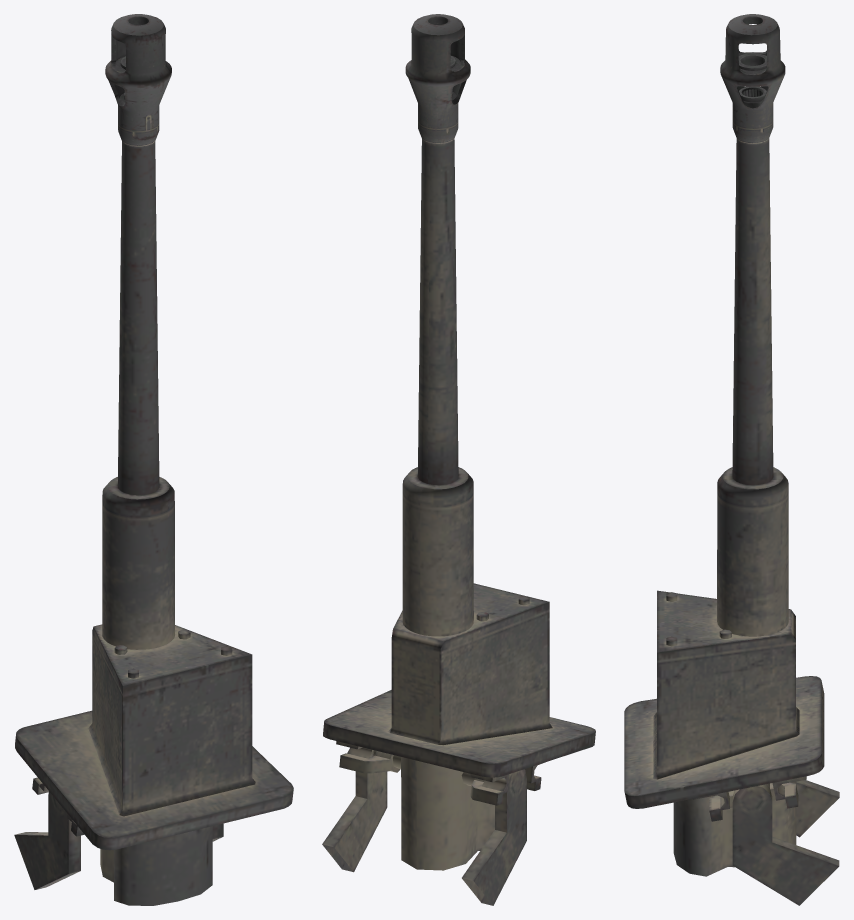
Rendered from Gun_03.glb.
3 renders of one model, left to right at view 1: azimuth 30°, elevation 25°; view 2: azimuth 150°, elevation 25°; view 3: azimuth 270°, elevation 25°, orthographic. The views are drawn at different scales.
Visible parts, largest first — view 1: set_0_group_0; view 2: set_0_group_0; view 3: set_0_group_0.
Boxes of the visible parts, x1=… form: set_0_group_0: x1=14, y1=14, x2=293, y2=905; set_0_group_0: x1=322, y1=14, x2=595, y2=905; set_0_group_0: x1=624, y1=14, x2=839, y2=905.
Size of the model in its own units: 0.8166 by 3.42 by 0.7856.
1 material, 1 textured.
